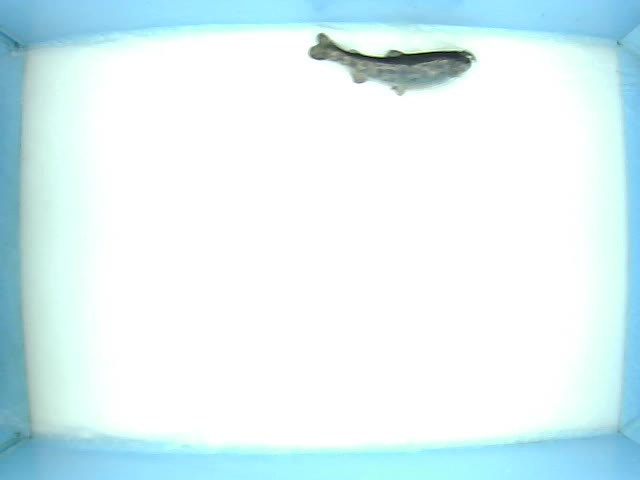fish: (277, 33, 488, 93)
